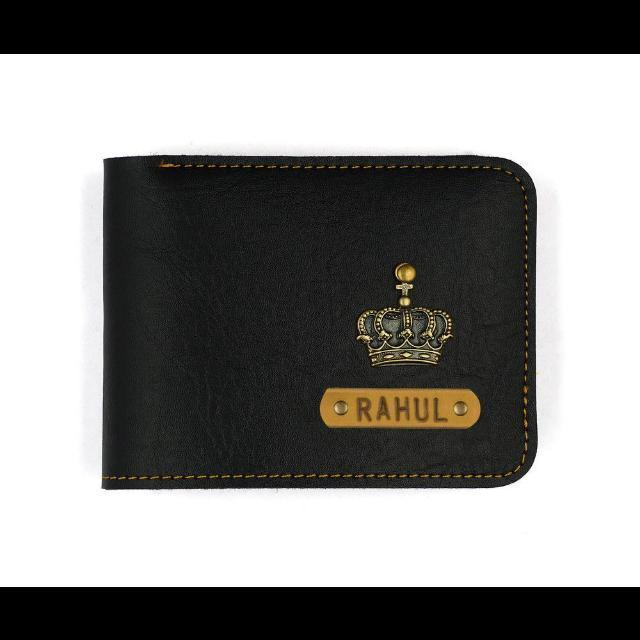wallet: (94, 149, 540, 493)
